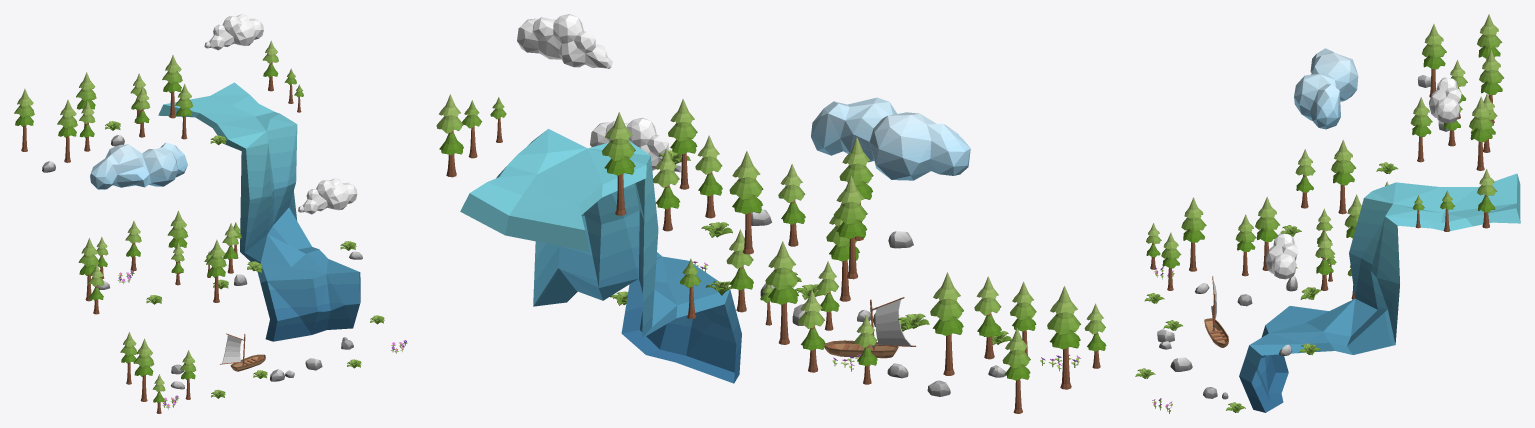
The model's file is forest_waterfall.glb.
3 renders of one model, left to right at view 1: azimuth 30°, elevation 25°; view 2: azimuth 150°, elevation 25°; view 3: azimuth 270°, elevation 25°, orthographic. The views are drawn at different scales.
Visible parts, largest first — view 1: waterfall 13_66, cloud 4_43, cloud 5_36, cloud 5 (1)_20, sailboat 5_39, pine tree large (3)_29, pine tree large (9)_41, pine tree large (8)_61, pine tree large (6)_10, pine tree large (1)_12, pine tree large (5)_56, pine tree large (4)_8 (+10 smaller); view 2: waterfall 13_66, cloud 4_43, cloud 5_36, sailboat 5_39, pine tree large (8)_61, pine tree large (7)_13, pine tree large (9)_41, pine tree large (4)_8, pine tree large (1)_12, cloud 5 (1)_20, pine tree large (5)_56, pine tree large (10)_38 (+14 smaller); view 3: waterfall 13_66, cloud 4_43, cloud 5 (1)_20, cloud 5_36, pine tree large (1)_12, pine tree large (5)_56, pine tree large (9)_41, pine tree large (6)_10, pine tree large (3)_29, pine tree large (7)_13, pine tree large (10)_38, pine tree large (8)_61 (+8 smaller).
Boxes of the visible parts, x1,y1,x2,y2 form: waterfall 13_66: (158, 82, 360, 341); cloud 4_43: (90, 142, 187, 189); cloud 5_36: (204, 14, 263, 50); cloud 5 (1)_20: (298, 178, 357, 214); sailboat 5_39: (220, 333, 265, 371); pine tree large (3)_29: (206, 239, 226, 302); pine tree large (9)_41: (162, 55, 182, 118); pine tree large (8)_61: (14, 89, 34, 151); pine tree large (6)_10: (57, 99, 77, 162); pine tree large (1)_12: (133, 338, 154, 401); pine tree large (5)_56: (78, 238, 99, 301); pine tree large (4)_8: (167, 210, 188, 273); waterfall 13_66: (460, 129, 741, 383); cloud 4_43: (811, 97, 970, 180); cloud 5_36: (517, 14, 612, 68); sailboat 5_39: (824, 297, 916, 358); pine tree large (8)_61: (833, 175, 867, 279); pine tree large (7)_13: (729, 151, 763, 254); pine tree large (9)_41: (602, 112, 635, 215); pine tree large (4)_8: (765, 241, 799, 344); pine tree large (1)_12: (1047, 286, 1080, 389); cloud 5 (1)_20: (590, 117, 681, 172); pine tree large (5)_56: (930, 272, 963, 375); pine tree large (10)_38: (668, 99, 697, 189); waterfall 13_66: (1239, 173, 1520, 412); cloud 4_43: (1294, 48, 1358, 129); cloud 5 (1)_20: (1265, 233, 1298, 279); cloud 5_36: (1429, 77, 1461, 123); pine tree large (1)_12: (1181, 197, 1206, 271); pine tree large (5)_56: (1331, 139, 1355, 214); pine tree large (9)_41: (1469, 96, 1493, 170); pine tree large (6)_10: (1422, 24, 1446, 97); pine tree large (3)_29: (1255, 196, 1279, 270); pine tree large (7)_13: (1479, 49, 1503, 123); pine tree large (10)_38: (1410, 97, 1432, 162); pine tree large (8)_61: (1477, 14, 1502, 59).
Bounding box in the file's own units: 17.3 × 16.2 × 18.
1 material, 1 textured.
